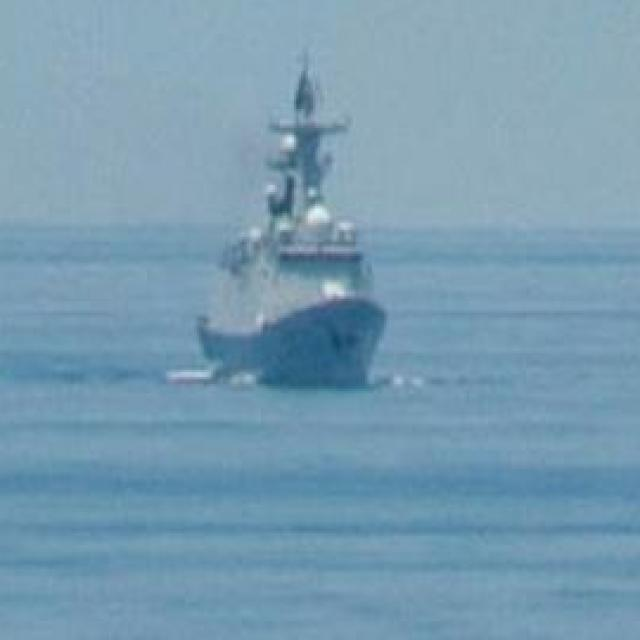navalvessels: (186, 60, 400, 381)
